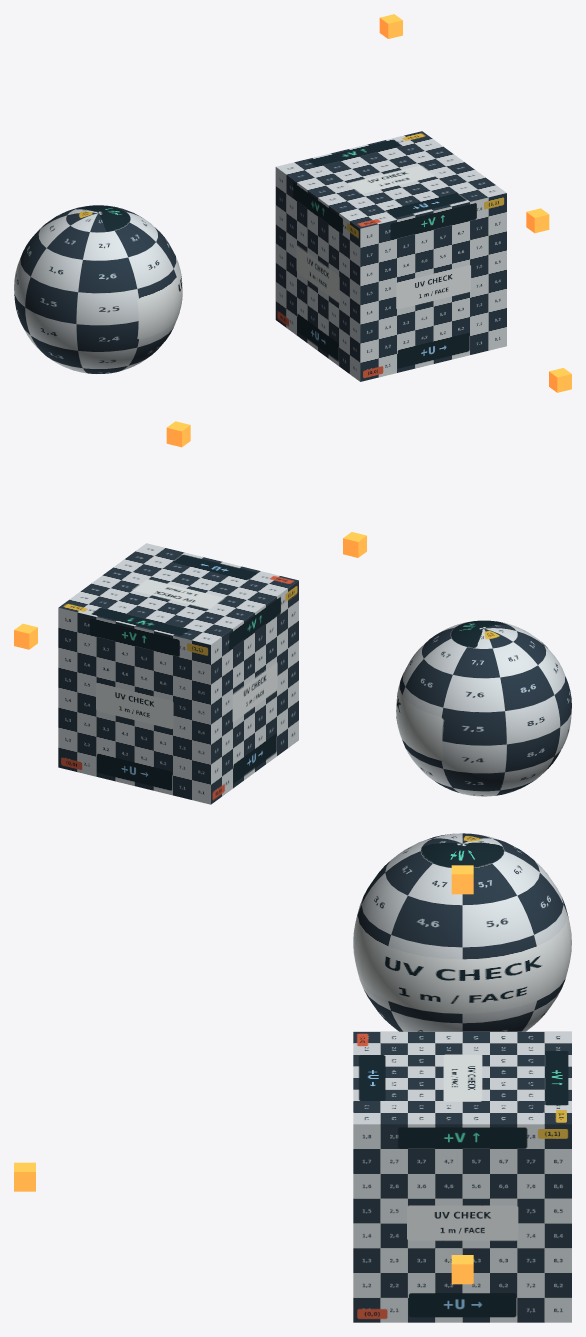
The model's file is IT_Calibration.fbx.
The picture shows the model from 3 angles, top to bottom: view 1: azimuth 30°, elevation 25°; view 2: azimuth 150°, elevation 25°; view 3: azimuth 270°, elevation 25°; orthographic projection. The views are drawn at different scales.
Visible parts, largest first — view 1: IT_Cube_1m, IT_LODTest_LOD0, IT_Left, IT_Up, IT_Nose; view 2: IT_Cube_1m, IT_LODTest_LOD0, IT_Up, IT_Left, IT_Nose; view 3: IT_Cube_1m, IT_LODTest_LOD0, IT_Left, IT_Up, IT_Nose.
Boxes of the visible parts, <box> form: IT_Cube_1m: <box>275,131,506,381</box>; IT_LODTest_LOD0: <box>14,205,182,373</box>; IT_Left: <box>526,208,549,233</box>; IT_Up: <box>379,14,402,38</box>; IT_Nose: <box>549,368,571,392</box>; IT_Cube_1m: <box>58,543,298,804</box>; IT_LODTest_LOD0: <box>396,620,571,796</box>; IT_Up: <box>166,421,190,447</box>; IT_Left: <box>14,623,37,649</box>; IT_Nose: <box>343,532,366,557</box>; IT_Cube_1m: <box>353,1031,571,1322</box>; IT_LODTest_LOD0: <box>353,833,571,1031</box>; IT_Left: <box>451,1255,473,1284</box>; IT_Up: <box>451,865,473,894</box>; IT_Nose: <box>14,1162,35,1191</box>.
Size of what is drawn, in the model's own units: 3.55 by 2.05 by 2.55.
2 materials, 1 textured.
